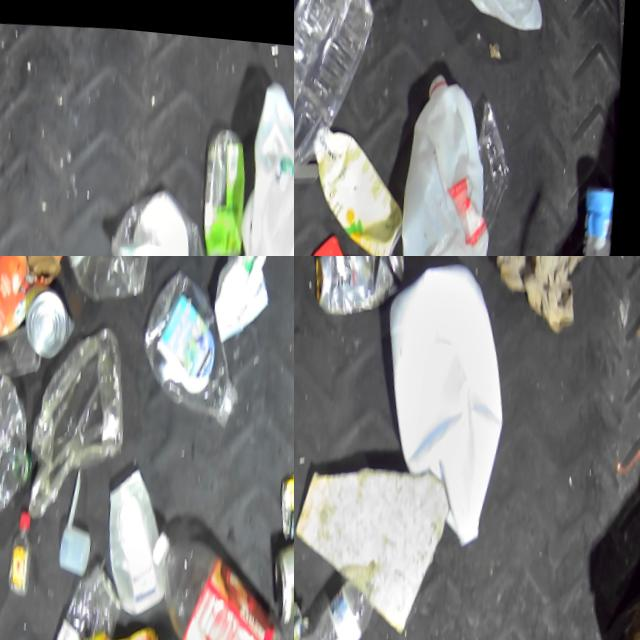can: (21, 273, 87, 366), (310, 256, 411, 313), (272, 520, 294, 627)
milk_jug: (367, 256, 525, 543), (391, 52, 510, 256), (431, 0, 566, 29)
plastic_bottle: (294, 0, 387, 214), (143, 509, 294, 640), (107, 180, 245, 256), (294, 546, 403, 640)
